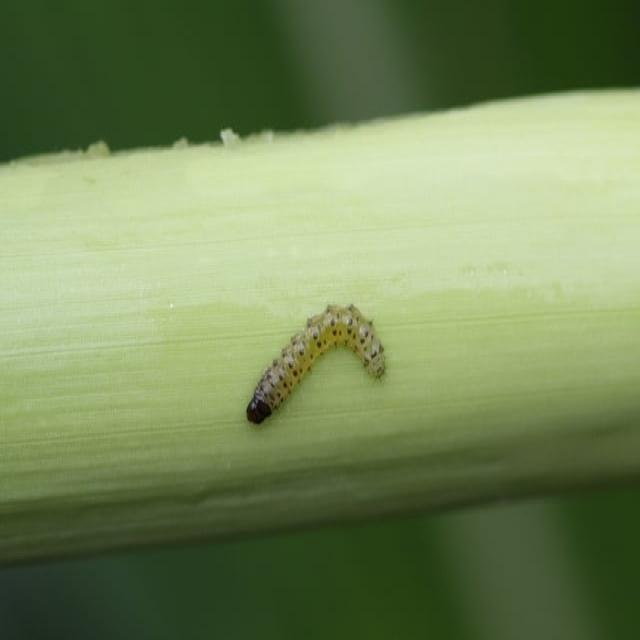cornborer-Larva-: (242, 287, 392, 428)
